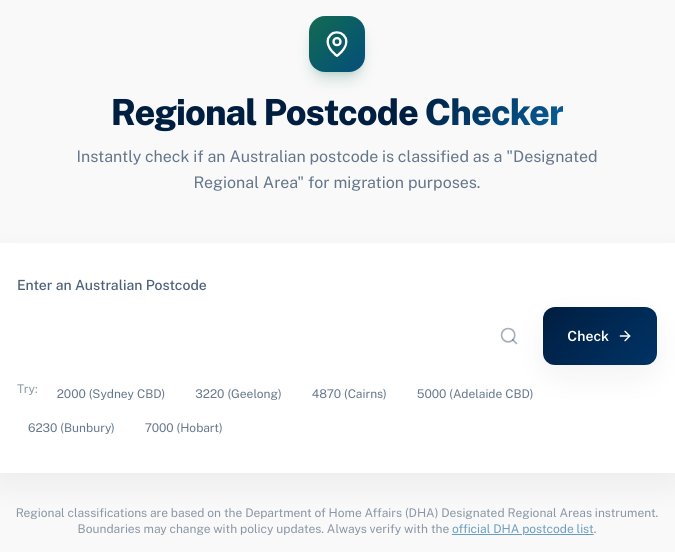
Test: RegionalPostcodePage › fills input when clicking a quick-try button
The width and height of the screenshot is (675, 552).
Click the button "4870 (Cairns)": x=349, y=394 [301, 381, 398, 407]
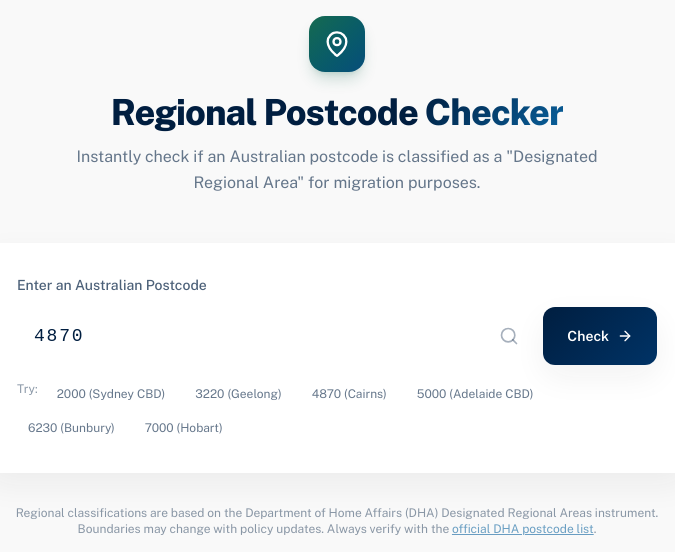
Expected: the field with placeholder "e.g. 3220" holds "4870", [17, 307, 531, 365]
